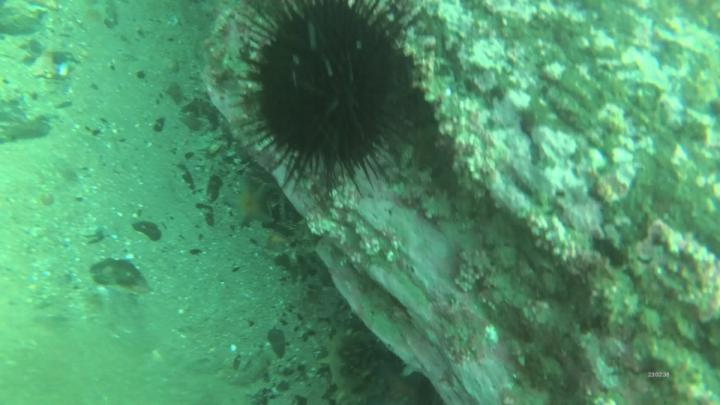holothurian: (227, 180, 273, 228)
starfish: (254, 1, 398, 173)
